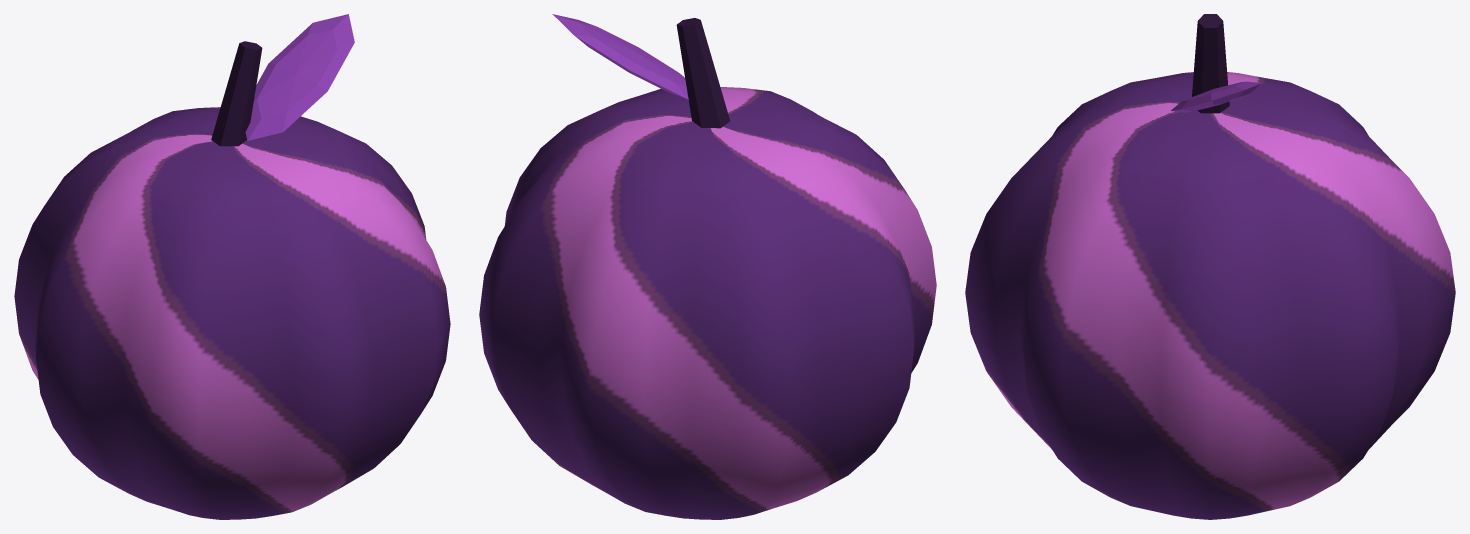
File: Fruit_Kraken.fbx
The picture shows the model from 3 angles, left to right: view 1: azimuth 30°, elevation 25°; view 2: azimuth 150°, elevation 25°; view 3: azimuth 270°, elevation 25°; orthographic projection. The views are drawn at different scales.
Visible parts, largest first — view 1: Fruit_Kraken; view 2: Fruit_Kraken; view 3: Fruit_Kraken.
Part boxes in pixels (x1,y1,x2,y2): Fruit_Kraken: (14,14,450,519); Fruit_Kraken: (479,14,936,519); Fruit_Kraken: (965,14,1455,519).
Size of the model in its own units: 1.73 by 1.9 by 1.73.
Materials: 1 (1 with a texture image).
